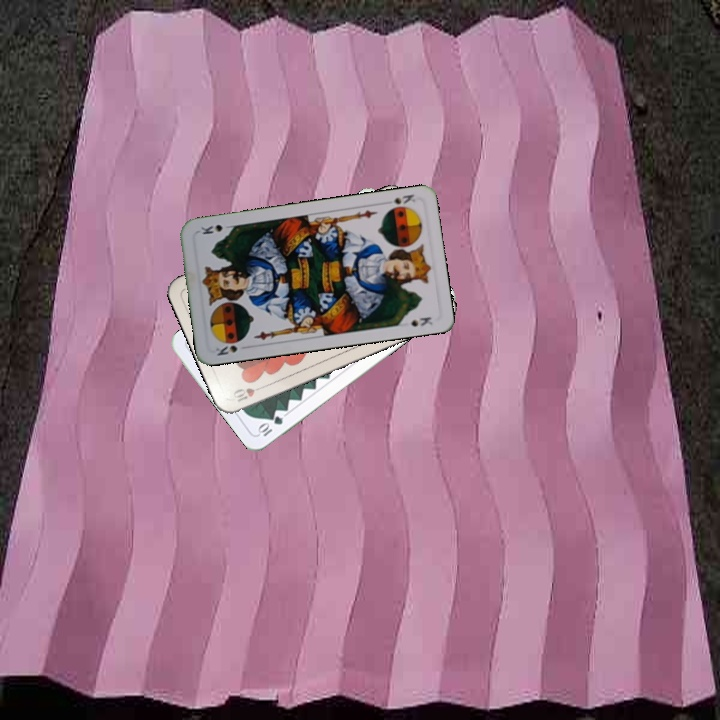G10: (254, 412, 286, 439)
H10: (229, 381, 268, 405)
SK: (380, 190, 417, 213), (211, 341, 240, 358)
